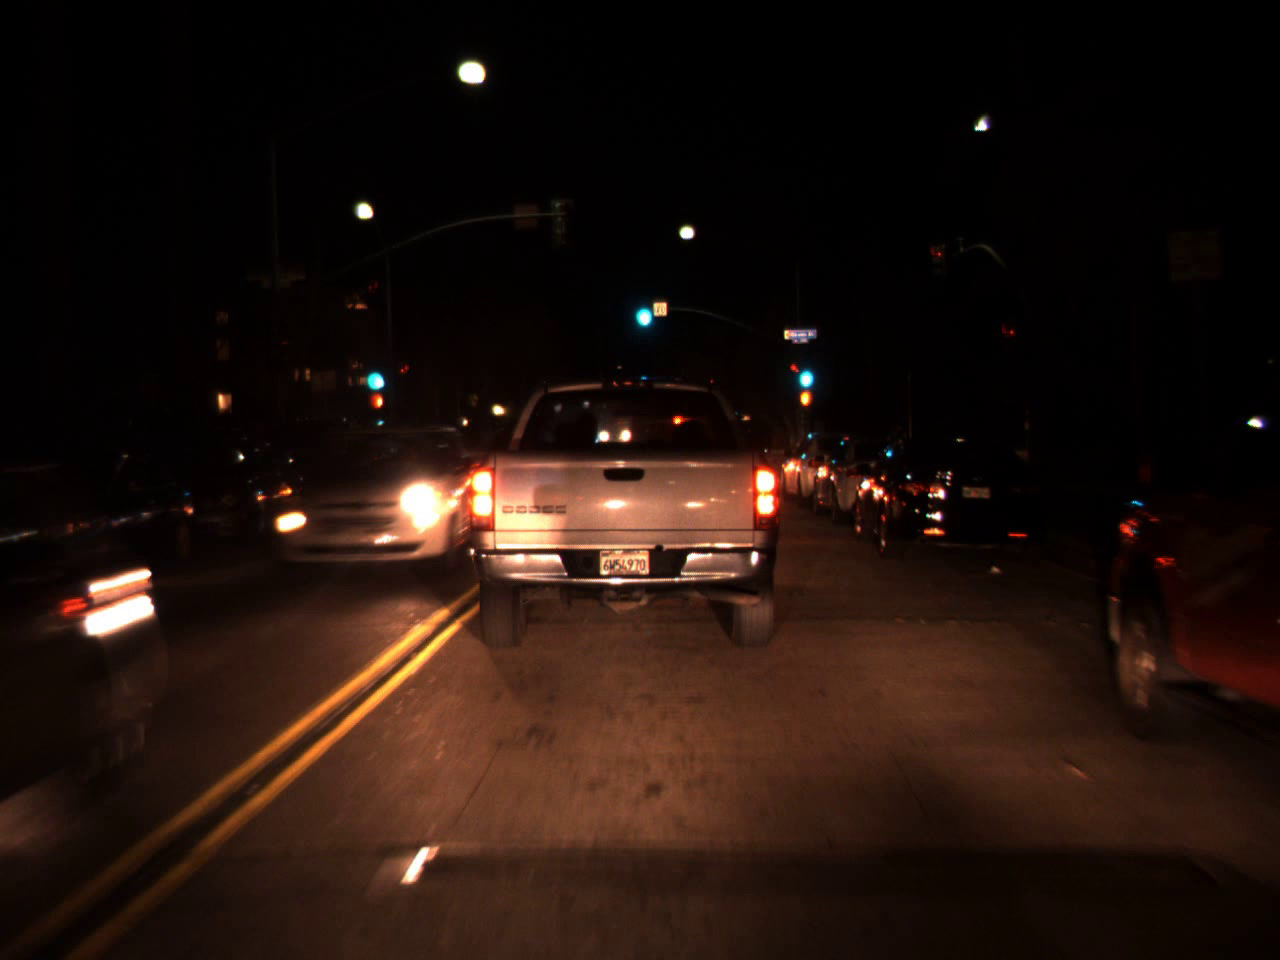go: (630, 285, 655, 333), (361, 351, 386, 396), (794, 351, 815, 393)
